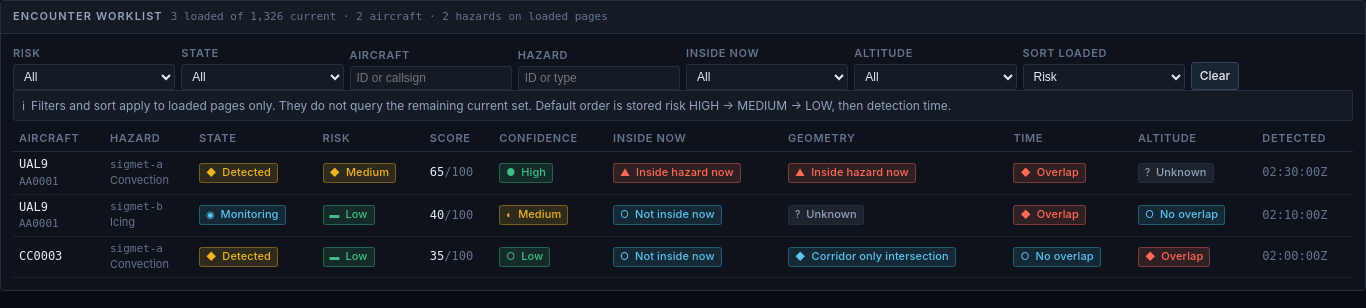
EncounterWorklist › filters loaded pages only and keeps UNKNOWN as Unknown
Check: the text "CC0003" is shown, box x1=19 y1=249 x2=62 y2=263
Select "Medium" in the dropdown labelled "Risk": (94, 77) x1=13 y1=64 x2=175 y2=90
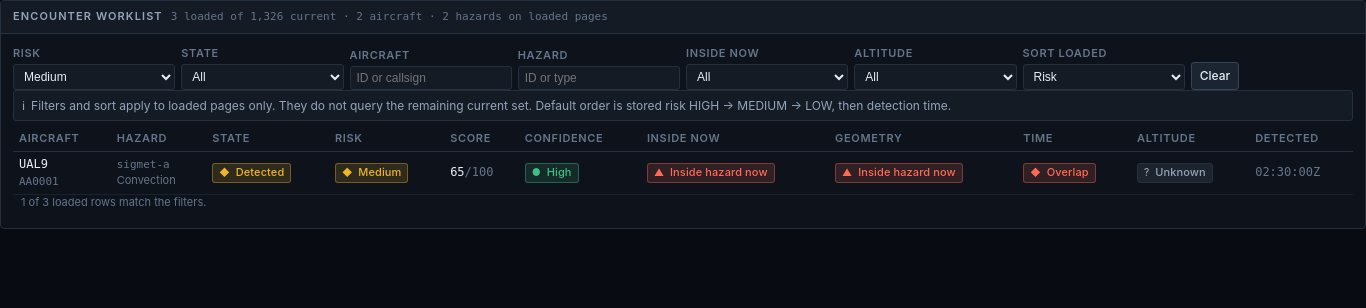
Check: the text "UAL9" is shown, box x1=19 y1=157 x2=48 y2=171
Check: the text "CC0003" is gone
Select "All" in the dropdown labelled "Risk": (94, 77) x1=13 y1=64 x2=175 y2=90
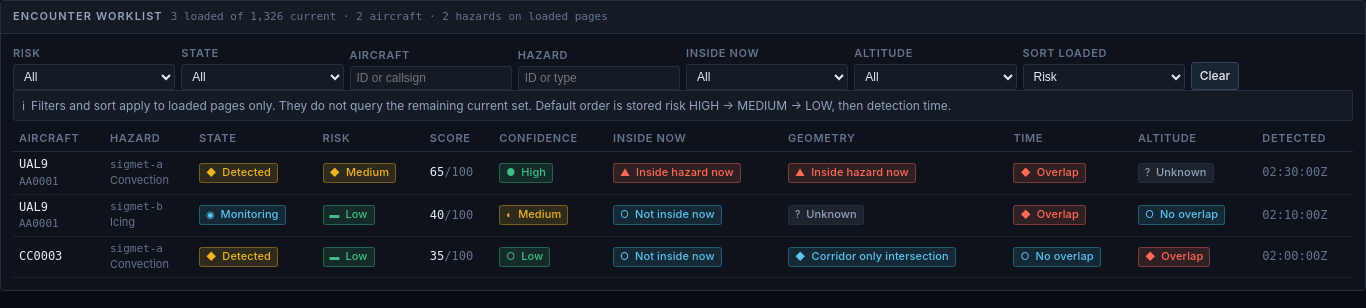
Select "Unknown" in the dropdown labelled "Altitude": (935, 77) x1=854 y1=64 x2=1017 y2=90
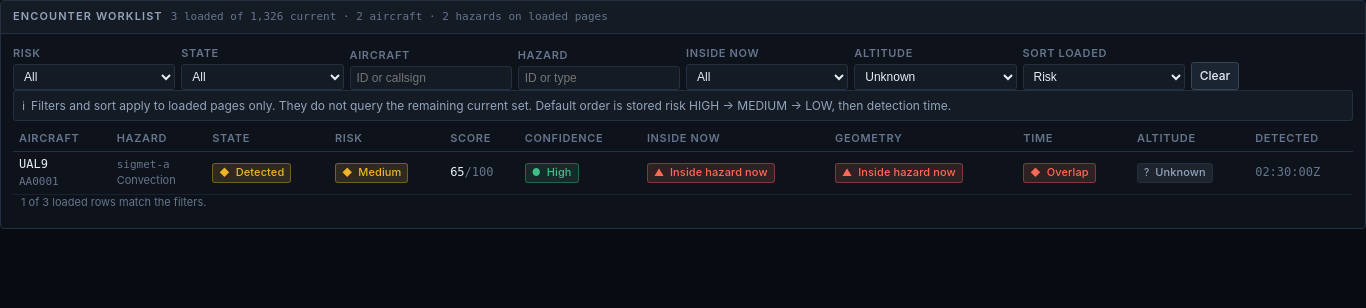
Check: the text "CC0003" is gone
Check: the text "1 of 3 loaded rows match the filters." is shown, box x1=21 y1=194 x2=206 y2=208
